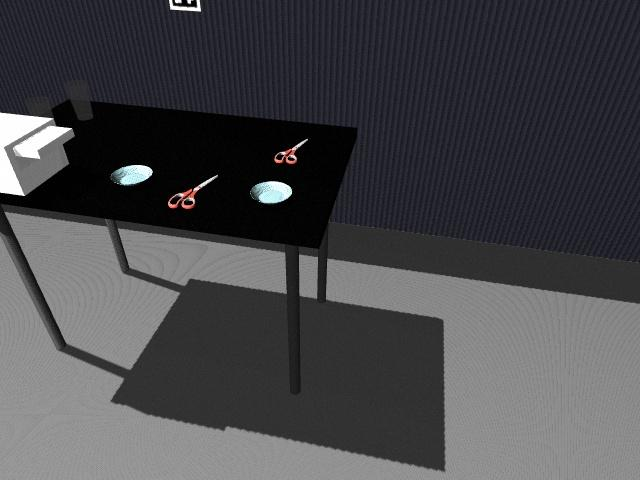cup: (65, 81, 93, 120), (24, 95, 53, 120)
plate: (250, 179, 296, 205), (110, 164, 154, 186)
scissors: (167, 174, 218, 210), (273, 139, 306, 165)
